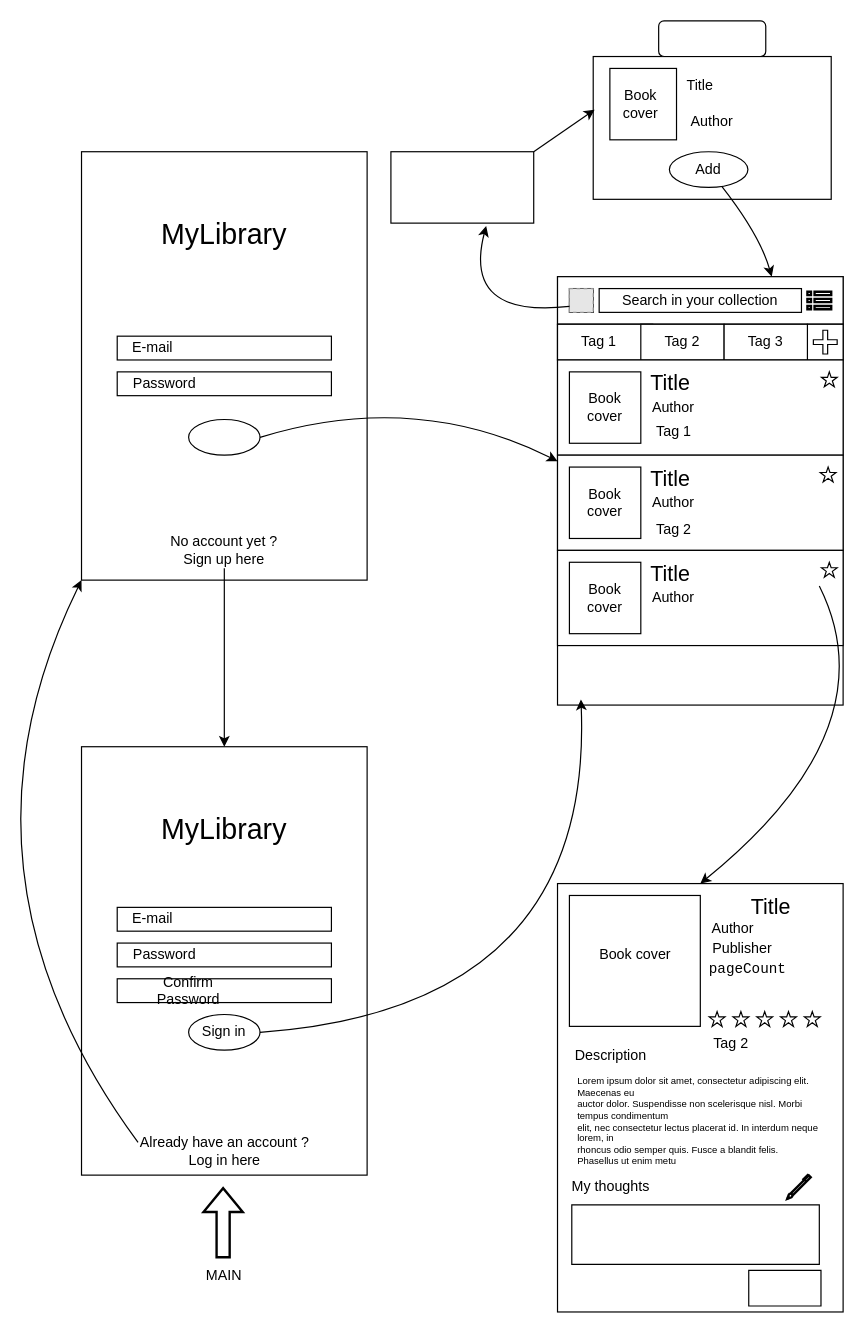
This 865x1333 diagram has some shape labels left out. Grey dashed boxes stand in for pictures. The box of each missing label's shape, as (x1, y1, x2, y2) in pixels:
Log In: (187, 418, 260, 455)
Pop Up: (657, 20, 766, 57)
Save text: (748, 1269, 821, 1306)
Scan ISBN: (390, 151, 534, 223)
Write your thoughts here: (571, 1204, 819, 1264)
